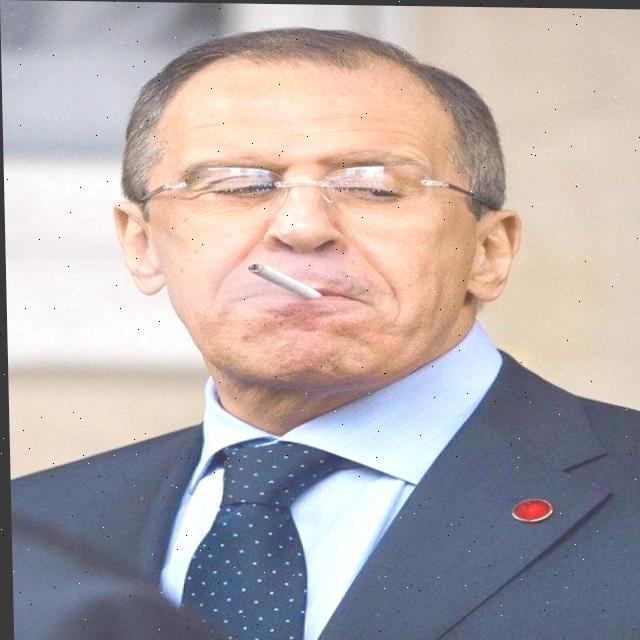cigarette: (246, 261, 320, 299)
